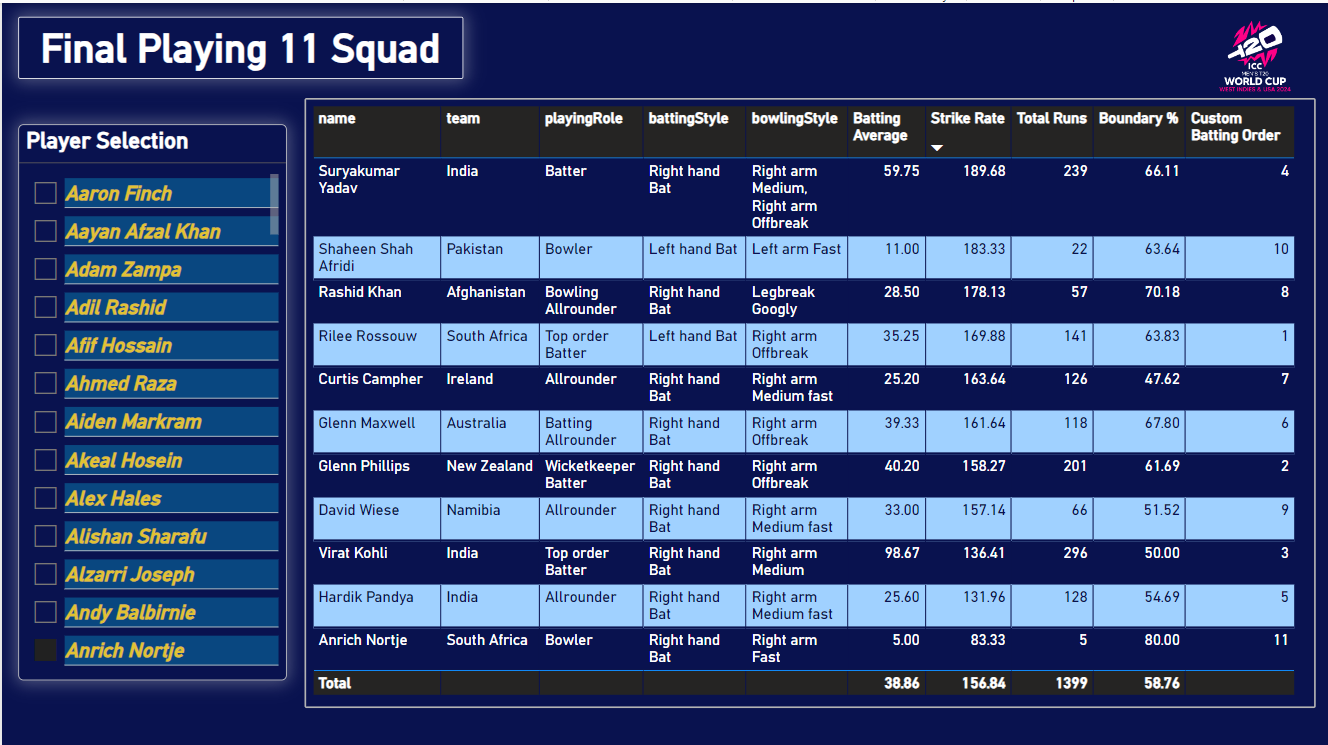

The page's visual inventory and layout, read from the dashboard file:
{"tool":"powerbi","page":{"name":"Final Team","canvas":[1280,720],"ordinal":5},"visuals":[{"type":"tableEx","fields":{"Values":["dimplayers.name","dimplayers.team","dimplayers.playingRole","dimplayers.battingStyle","dimplayers.bowlingStyle","Key Measures.Batting Average","Key Measures.Strike Rate","Key Measures.Total Runs","Key Measures.Boundary %","dimplayers.Custom Batting Order"]},"box":[292,91.7,976,588.7],"z":0},{"type":"slicer","title":"Player Selection","fields":{"Values":["dimplayers.name"]},"box":[15.7,117,259.4,536.9],"z":1000},{"type":"image","box":[1150.9,0,117,102.5],"z":1001},{"type":"textbox","box":[15.7,13.3,429.5,60.3],"z":1002}]}

Visuals, with their boxes in screenshot pixels (x1, y1, x2, y2), scaled from the page's 1280x720 canvas onto the 1328x745 screenshot:
tableEx - dimplayers.name x dimplayers.team: {"left": 303, "top": 95, "right": 1316, "bottom": 704}
"Player Selection" slicer: {"left": 16, "top": 121, "right": 285, "bottom": 677}
image: {"left": 1194, "top": 0, "right": 1315, "bottom": 106}
textbox: {"left": 16, "top": 14, "right": 462, "bottom": 76}
